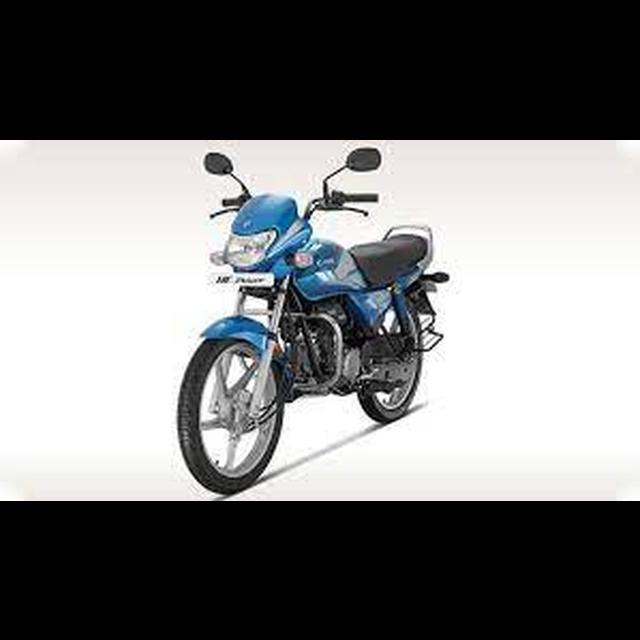motorcycle: (175, 143, 450, 497)
